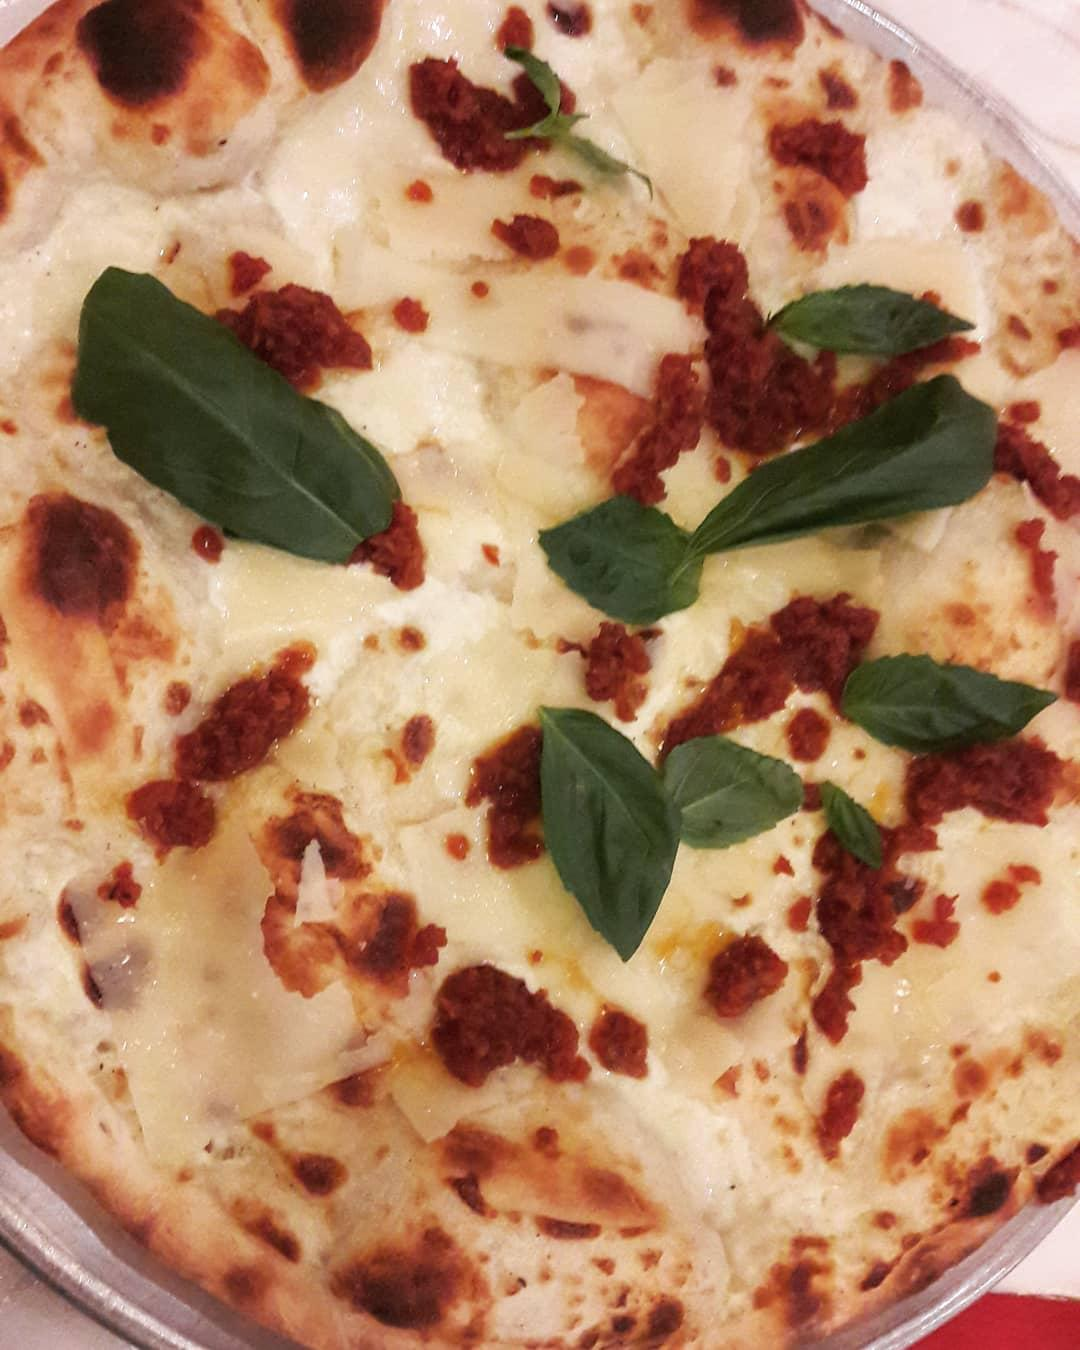Basil: (66, 258, 414, 580), (668, 366, 1009, 574), (522, 690, 685, 962), (494, 40, 672, 212), (832, 630, 1058, 764), (523, 482, 710, 638), (646, 716, 824, 854), (756, 262, 984, 368), (810, 768, 904, 882)
Pizza: (0, 0, 1080, 1350)
